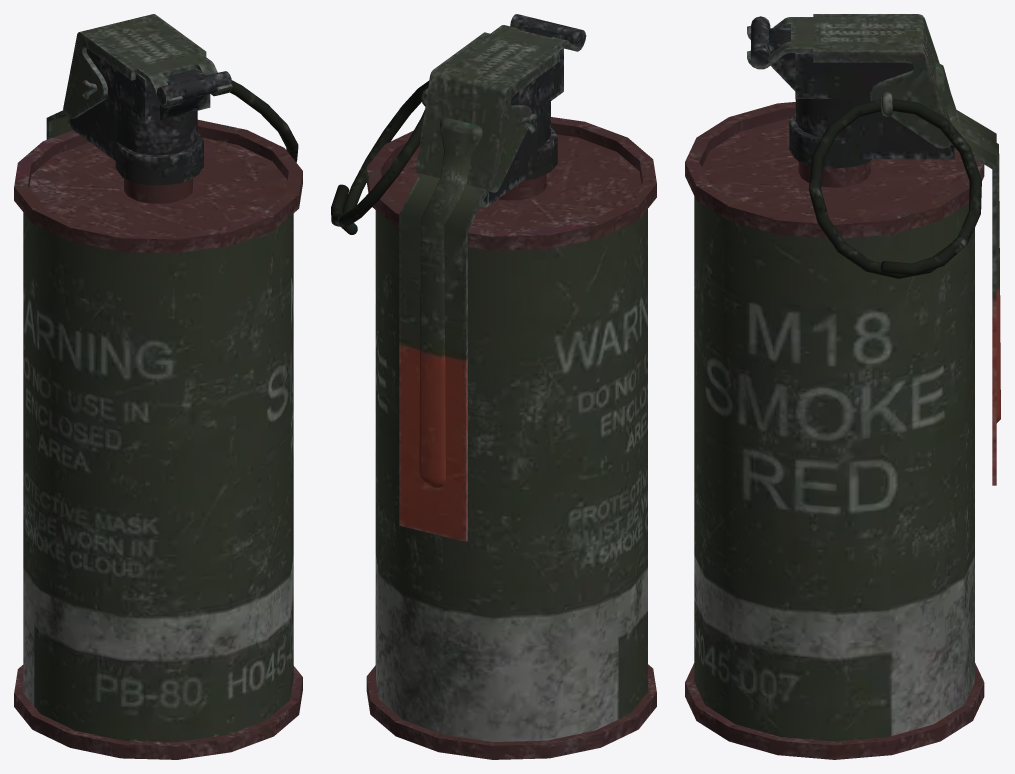
Rendered from nade_smoke.76cb3f7f47.glb.
3 views of the same model, side by side, from view 1: azimuth 30°, elevation 25°; view 2: azimuth 150°, elevation 25°; view 3: azimuth 270°, elevation 25° (orthographic). The views are drawn at different scales.
Parts seen in each view (by area): view 1: SM_SmokeGrenade_PainterExport; view 2: SM_SmokeGrenade_PainterExport; view 3: SM_SmokeGrenade_PainterExport.
Part boxes in pixels (left/top/right/bottom): SM_SmokeGrenade_PainterExport: left=14, top=14, right=302, bottom=759; SM_SmokeGrenade_PainterExport: left=331, top=14, right=656, bottom=759; SM_SmokeGrenade_PainterExport: left=685, top=14, right=1000, bottom=759.
Bounding box in the file's own units: 2.6 × 5.83 × 2.51.
Materials: 1 (1 with a texture image).
